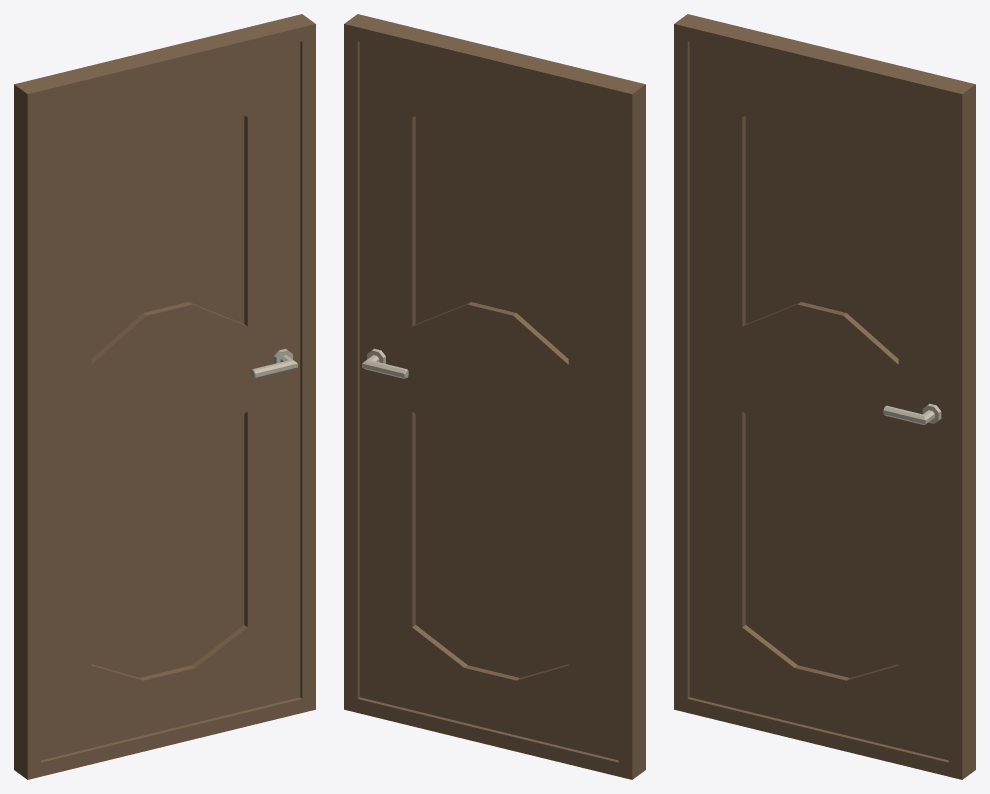
File: Mesh_Door_D04.fbx
The picture shows the model from 3 angles, left to right: view 1: azimuth 30°, elevation 25°; view 2: azimuth 150°, elevation 25°; view 3: azimuth 330°, elevation 25°; orthographic projection.
Visible parts, largest first — view 1: Mesh_Door_D04; view 2: Mesh_Door_D04; view 3: Mesh_Door_D04.
Boxes of the visible parts, x1=… form: Mesh_Door_D04: x1=14, y1=14, x2=315, y2=779; Mesh_Door_D04: x1=344, y1=14, x2=645, y2=779; Mesh_Door_D04: x1=674, y1=14, x2=975, y2=779.
Bounding box in the file's own units: 0.9 × 2.05 × 0.1742.
